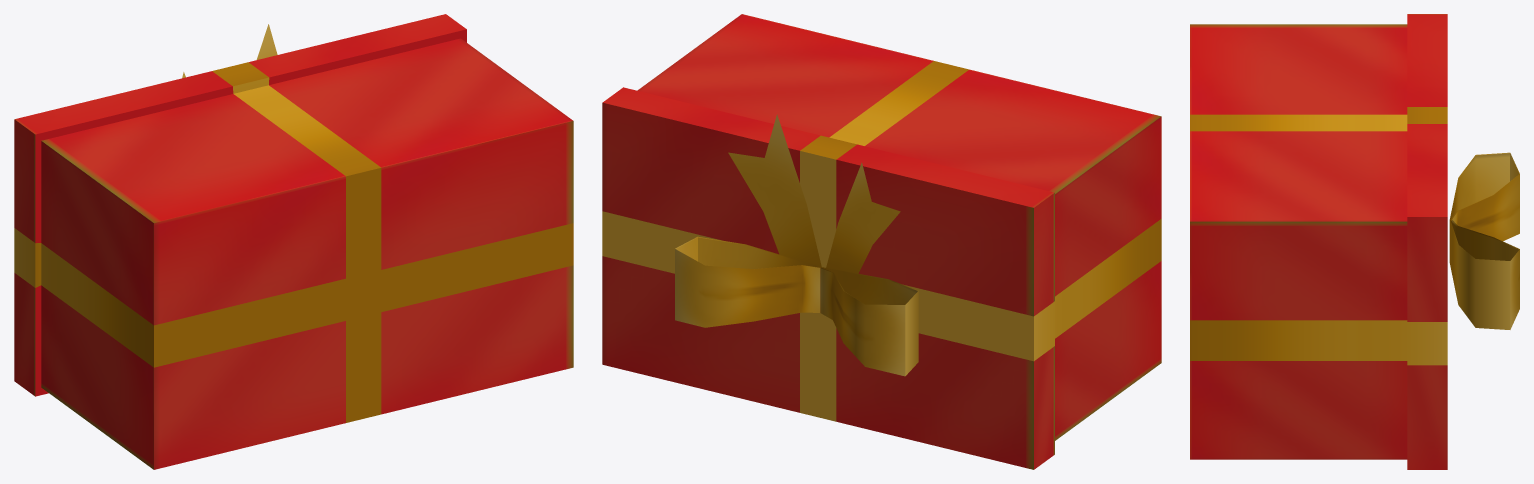
Rendered from Present_D.fbx.
The picture shows the model from 3 angles, left to right: view 1: azimuth 30°, elevation 25°; view 2: azimuth 150°, elevation 25°; view 3: azimuth 270°, elevation 25°; orthographic projection. The views are drawn at different scales.
Visible parts, largest first — view 1: Present_D; view 2: Present_D; view 3: Present_D.
Part boxes in pixels (bbox=[...]): Present_D: bbox=[14, 14, 573, 469]; Present_D: bbox=[602, 14, 1161, 469]; Present_D: bbox=[1190, 14, 1519, 469].
Bounding box in the file's own units: 28.13 × 18.36 × 19.3.
